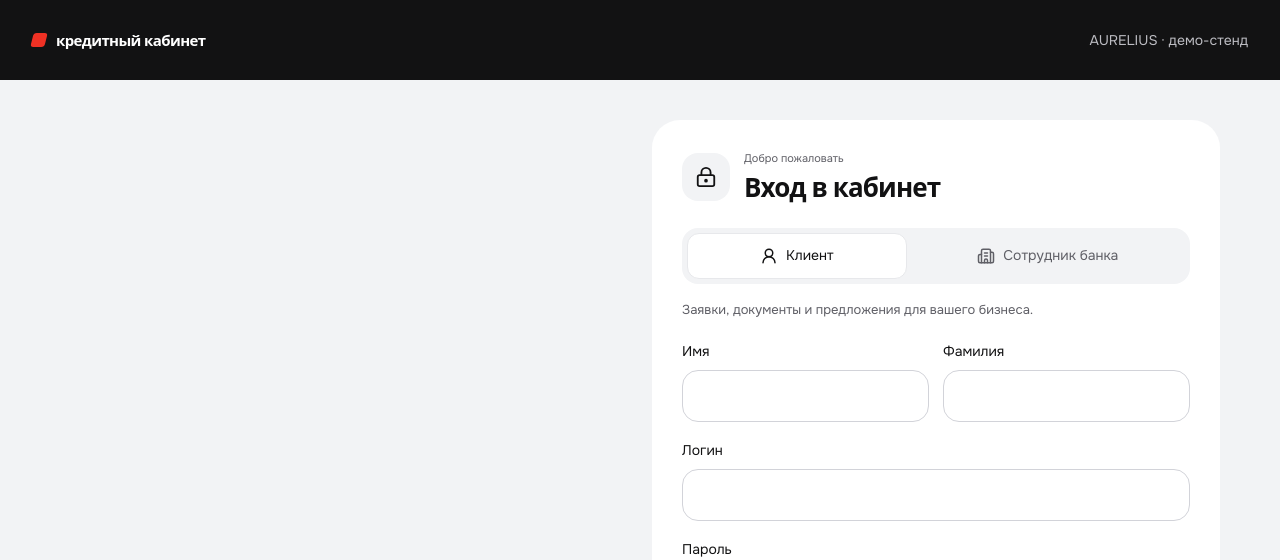
Login and assistant dock › signs an employee into the bank workspace without a client chat
expect the heading "Вход в кабинет" is shown: met, box [744,170,940,204]
Click the radio button labelled "Сотрудник банка": (1048, 257) [1038,247,1058,267]
(page scrolled)
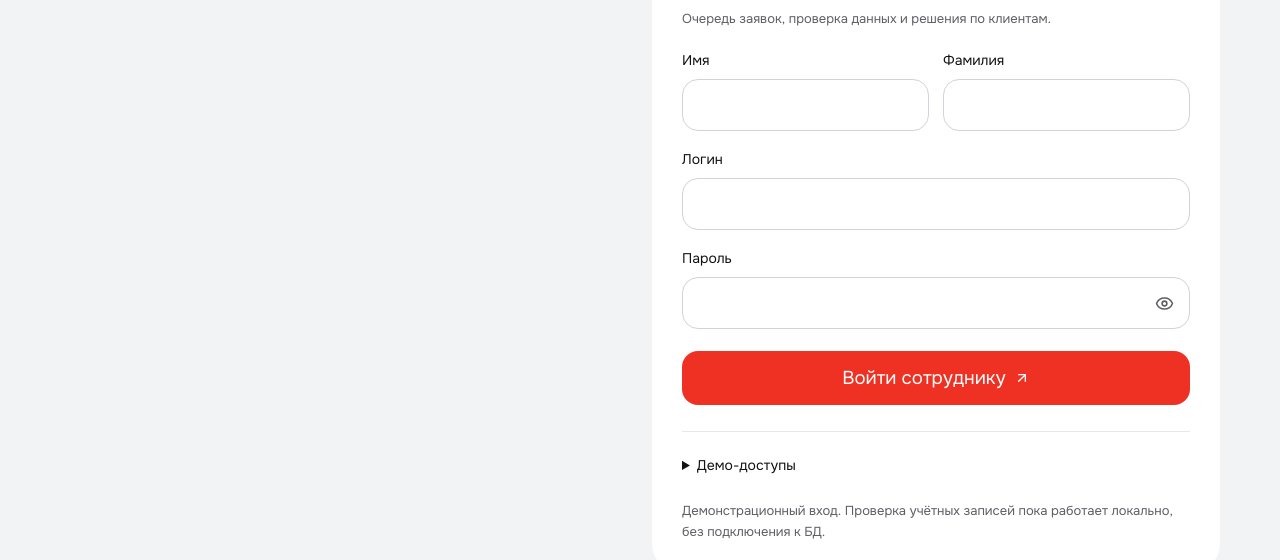
Click the heading "Демо-доступы": (746, 465) [697,456,796,474]
(page scrolled)
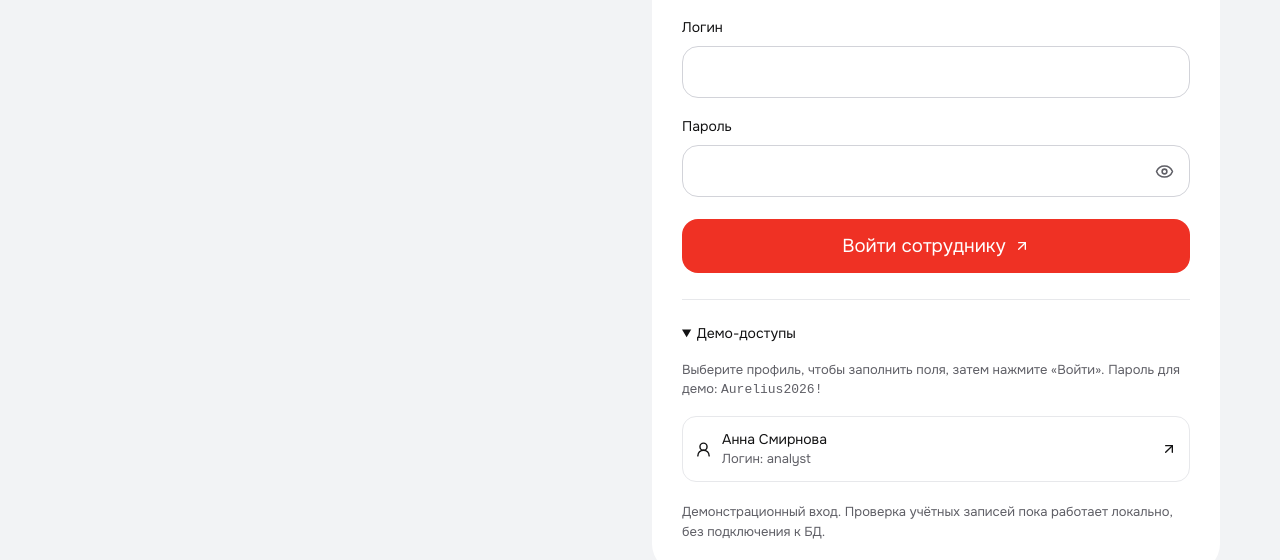
Click the button "Анна Смирнова Логин: analyst": (775, 439) [682,416,1190,482]
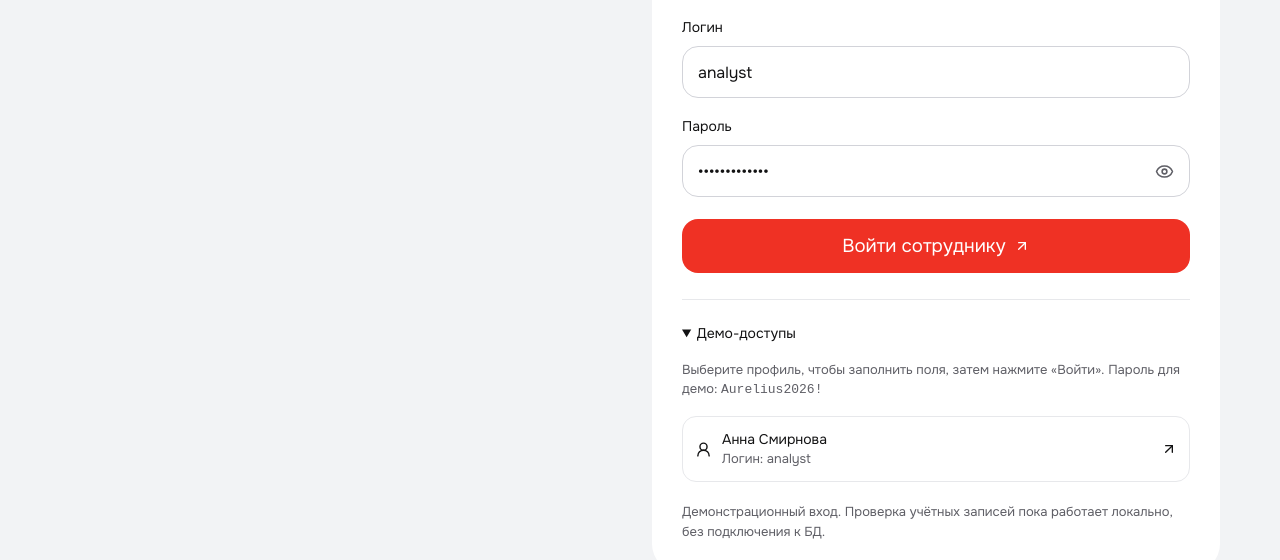
Click the button "Войти сотруднику": (936, 246) [682,219,1190,273]
(page scrolled)
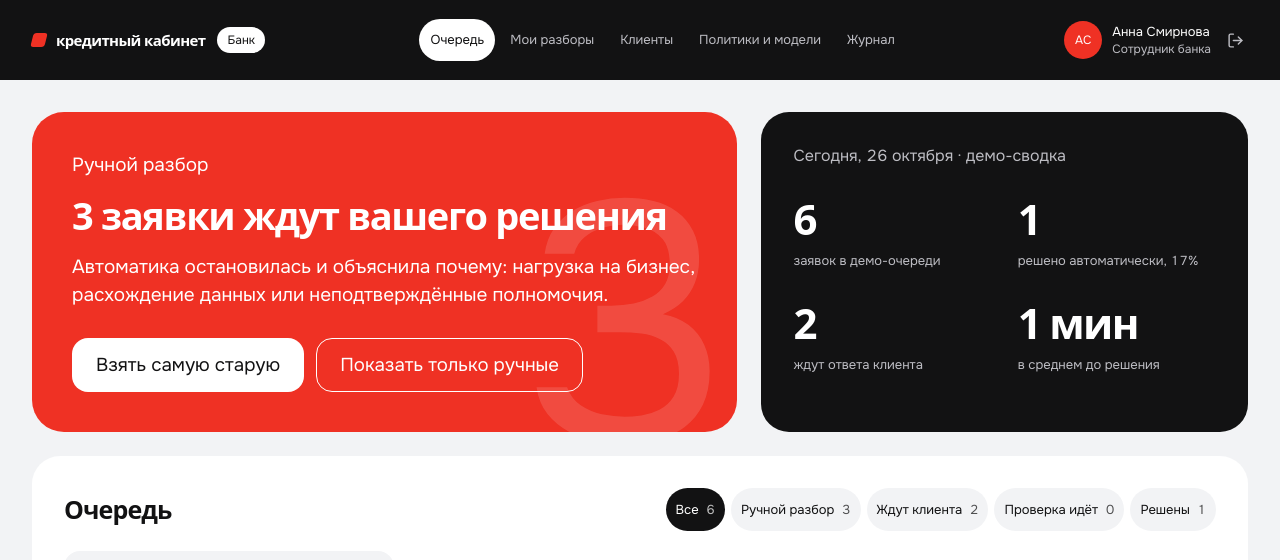
expect the text "Анна Смирнова" is shown: met, box [1112,22,1211,41]
expect the heading "Очередь" is shown: met, box [64,494,172,526]
